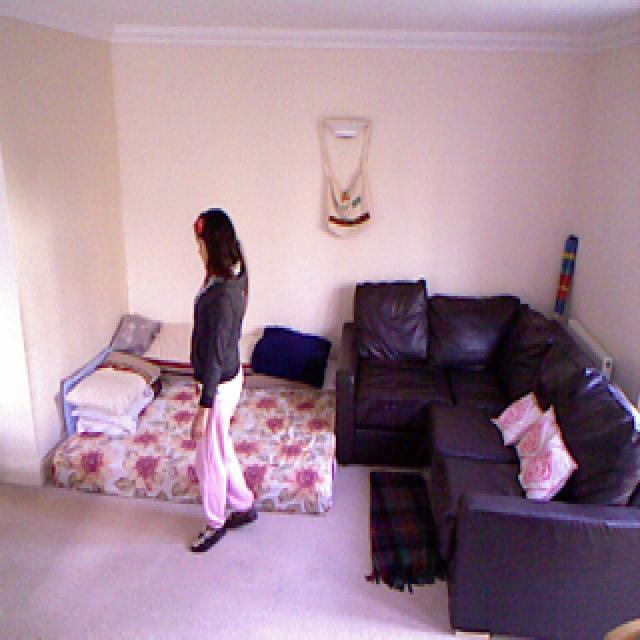walking: (170, 198, 266, 566)
